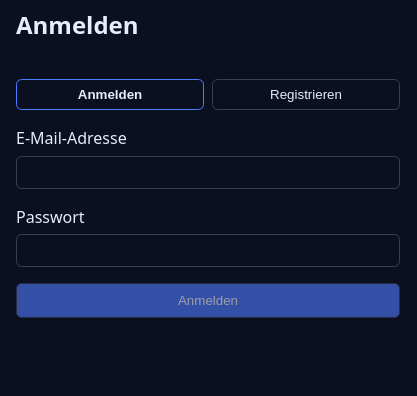
AuthView › wechselt nach erfolgreicher Registrierung in den Anmeldemodus mit Hinweis
Click the tab with test id "tab-register".
click(306, 94)  # box [212,79,400,110]
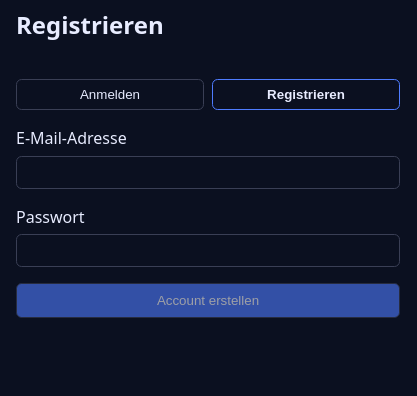
Type "captain@example.test" into the field with test id "email-input".
click(208, 172); type("captain@example.test")  # box [16,156,400,189]
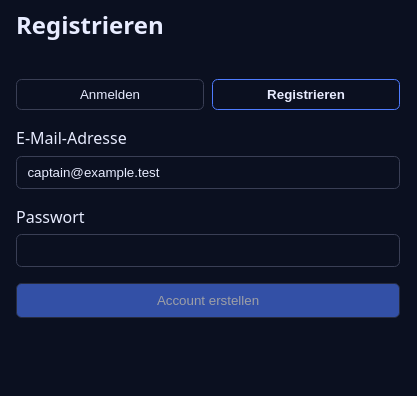
Type "secret" into the password field with test id "password-input".
click(208, 251); type("secret")  # box [16,234,400,267]
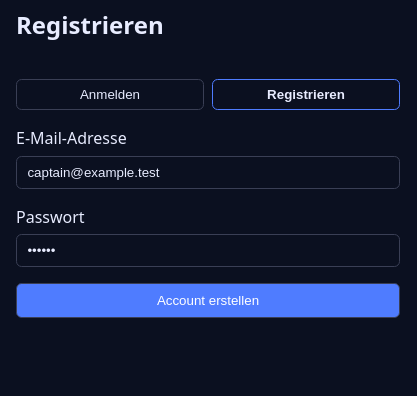
Submit the form, box [16,126,400,318]
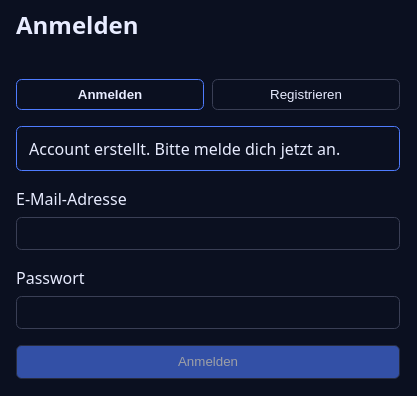
Expected: the message "Account erstellt. Bitte melde dich jetzt an." is shown, [16,126,400,171]
